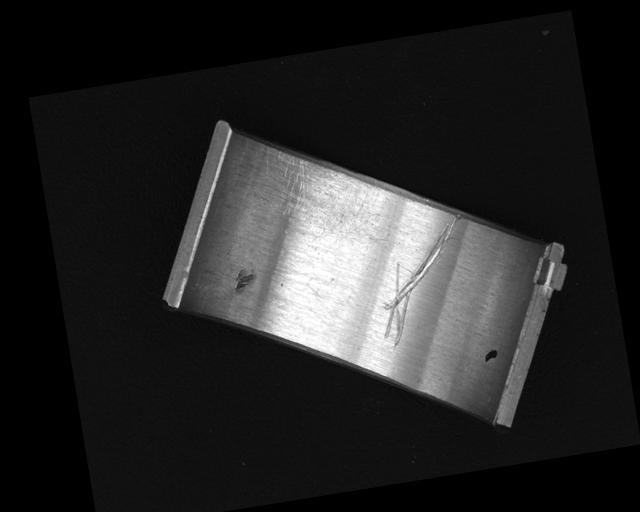blot: (482, 348, 500, 364)
bruise: (230, 267, 257, 294)
nick: (364, 215, 479, 351)
scratch: (260, 135, 372, 240)
